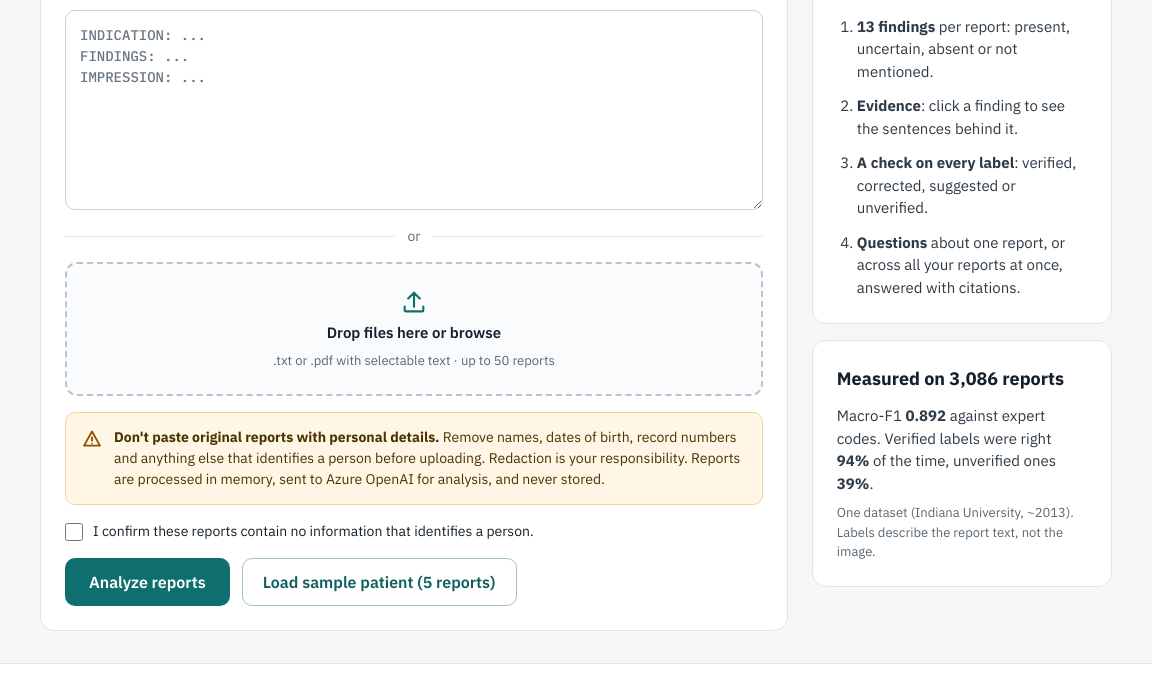
Test: typing your own report replaces the sample and needs the confirmation
The width and height of the screenshot is (1152, 684).
(page scrolled)
Click the button "Load sample patient (5 reports)".
click(379, 582)  # box [242,558,516,606]
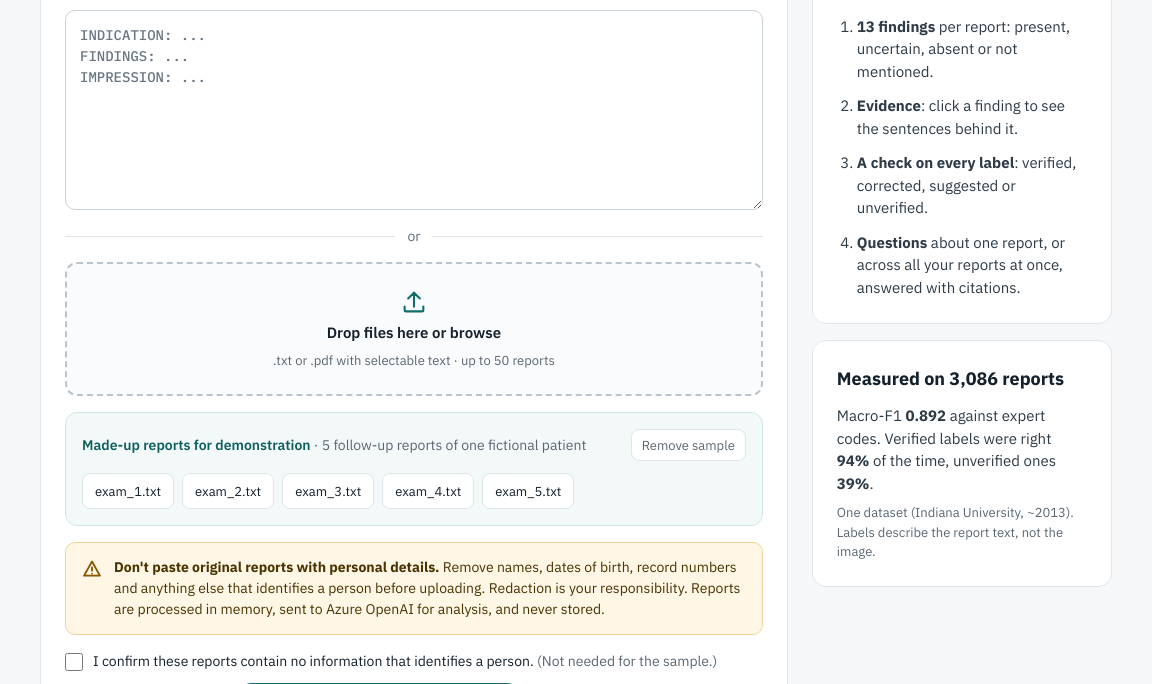
Type "FINDINGS: No pneumothorax." into the text box labelled "Paste a report".
click(414, 110); type("FINDINGS: No pneumothorax.")  # box [65,10,763,210]
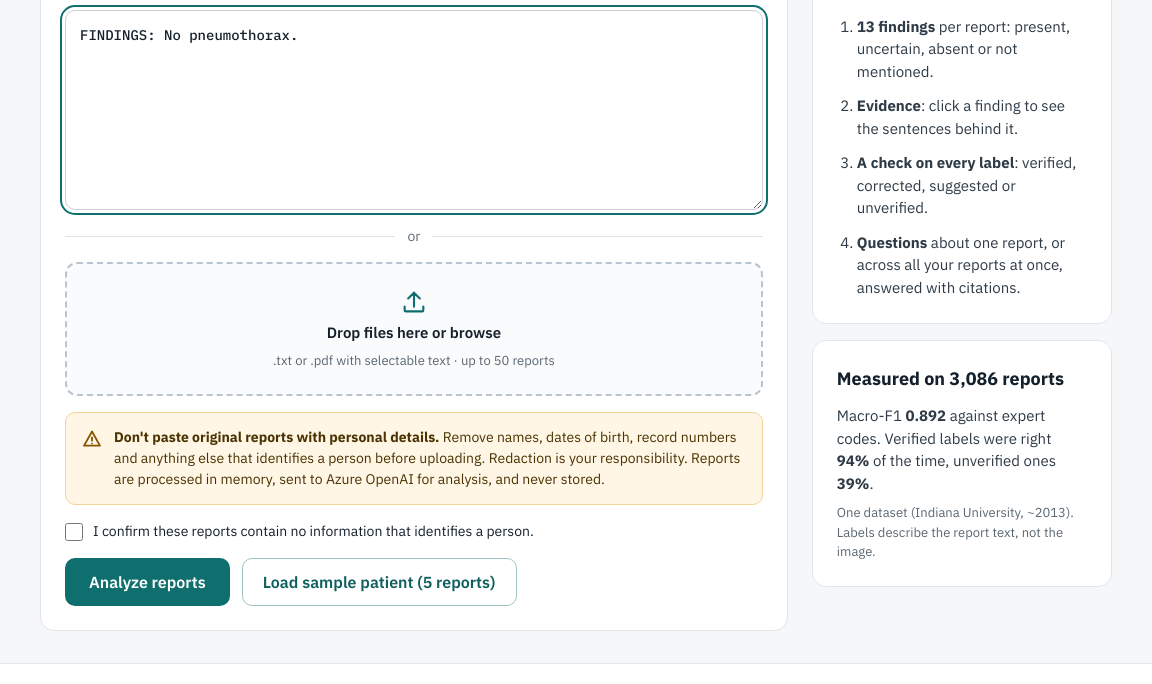
Click the button "Analyze reports".
click(147, 582)  # box [65,558,230,606]
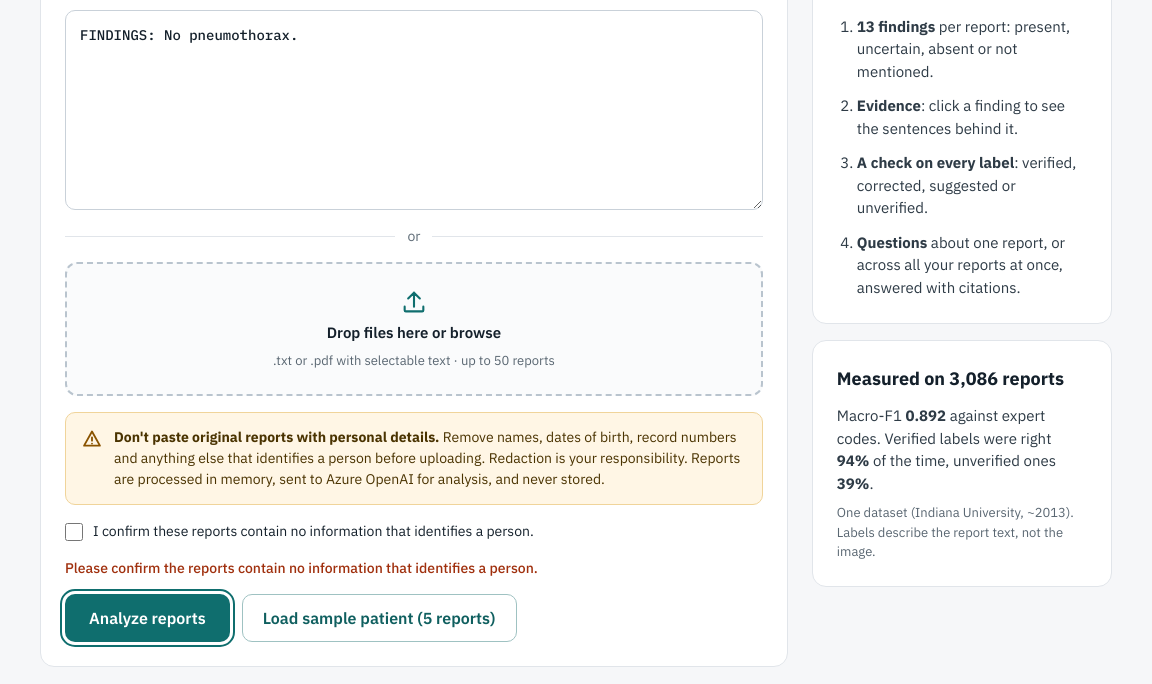
Expected: the message shows "Please confirm", [65,559,538,577]
